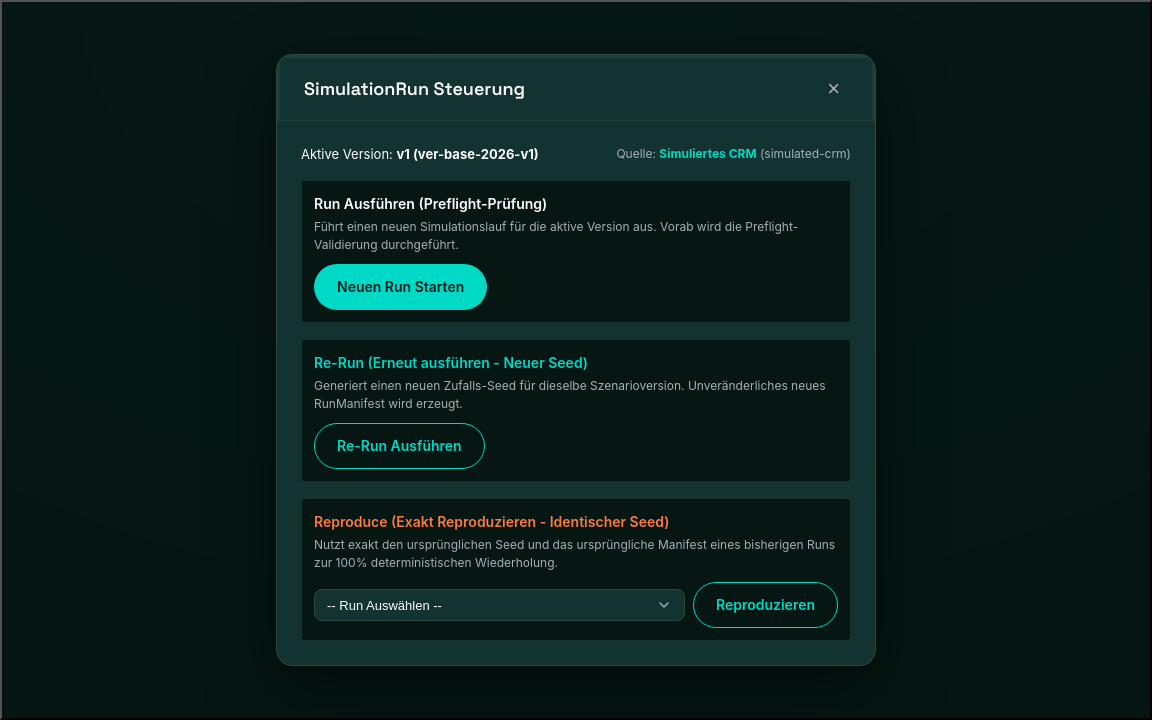
RunActionModal (characterization) › Reproduzieren ohne Auswahl zeigt Fehlermeldung
This screenshot has width=1152, height=720.
Click the button "Reproduzieren".
click(766, 605)  # box [693,582,838,628]
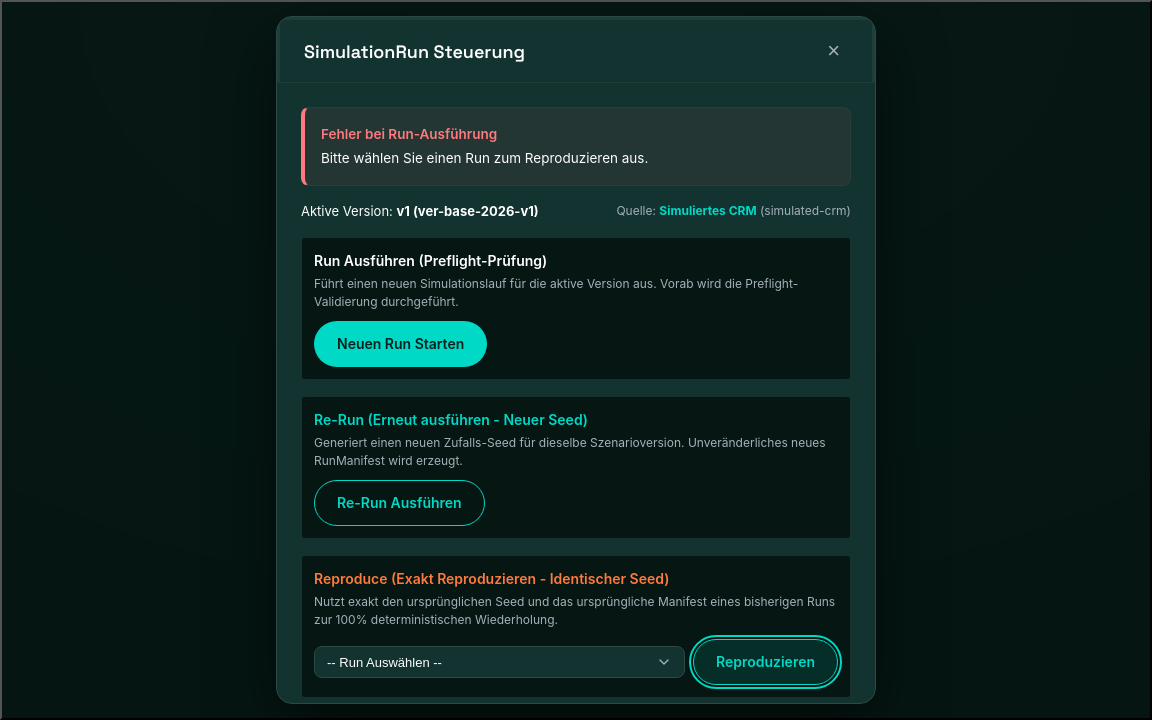
Expected: the text "Bitte wählen Sie einen Run zum Reproduzieren aus." is shown, [321,150,648,166]
